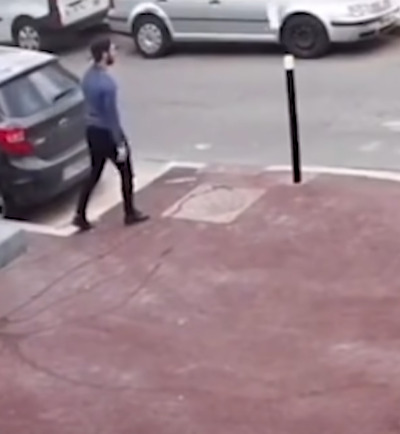person: (67, 40, 154, 229)
